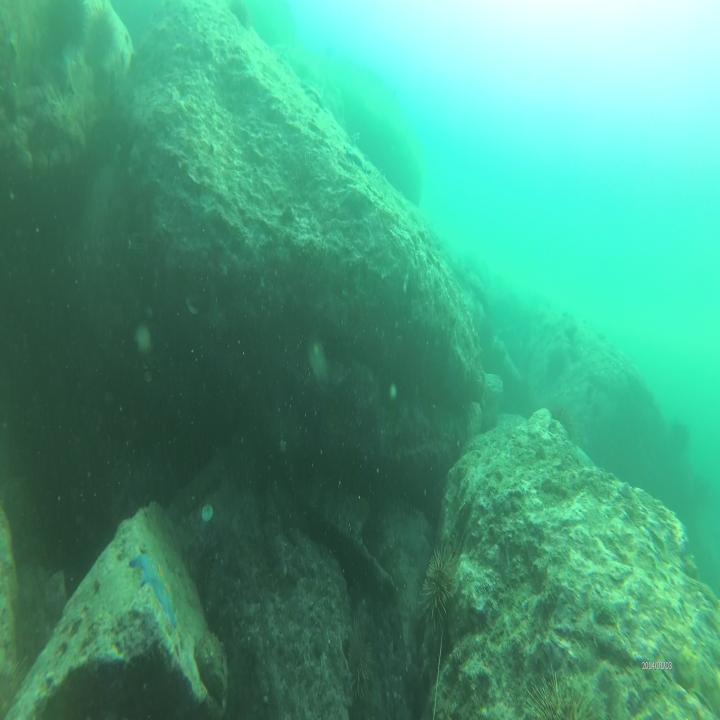echinus: (524, 680, 592, 720), (425, 544, 456, 622), (344, 619, 375, 693)
starfish: (129, 550, 177, 622)
